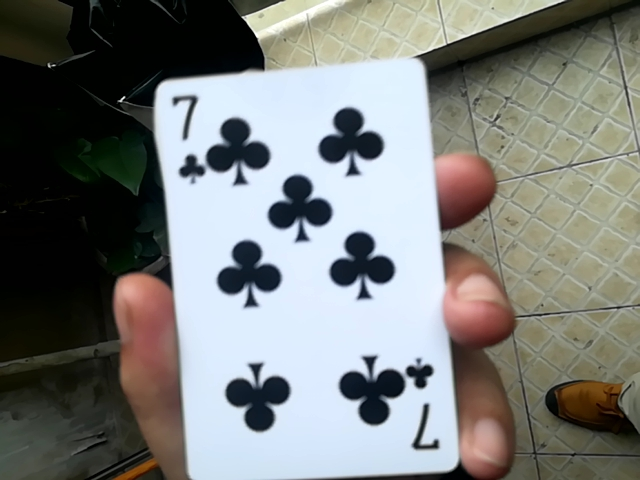mh 7: (136, 59, 463, 479)
